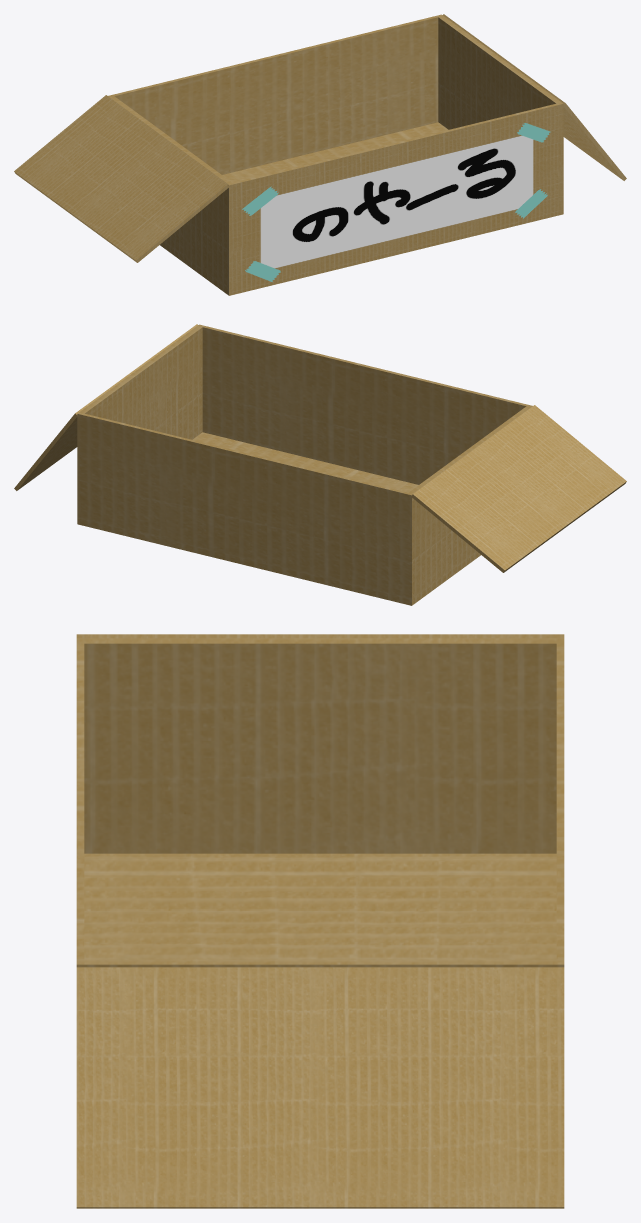
The model's file is Cardboard_MsgC.fbx.
3 renders of one model, top to bottom at view 1: azimuth 30°, elevation 25°; view 2: azimuth 150°, elevation 25°; view 3: azimuth 270°, elevation 25°, orthographic. The views are drawn at different scales.
Visible parts, largest first — view 1: Cardboard_MsgCtype; view 2: Cardboard_MsgCtype; view 3: Cardboard_MsgCtype.
Boxes of the visible parts, x1=… form: Cardboard_MsgCtype: x1=14, y1=14, x2=626, y2=295; Cardboard_MsgCtype: x1=14, y1=324, x2=626, y2=605; Cardboard_MsgCtype: x1=76, y1=634, x2=564, y2=1208.
Bounding box in the file's own units: 465 × 101 × 200.
